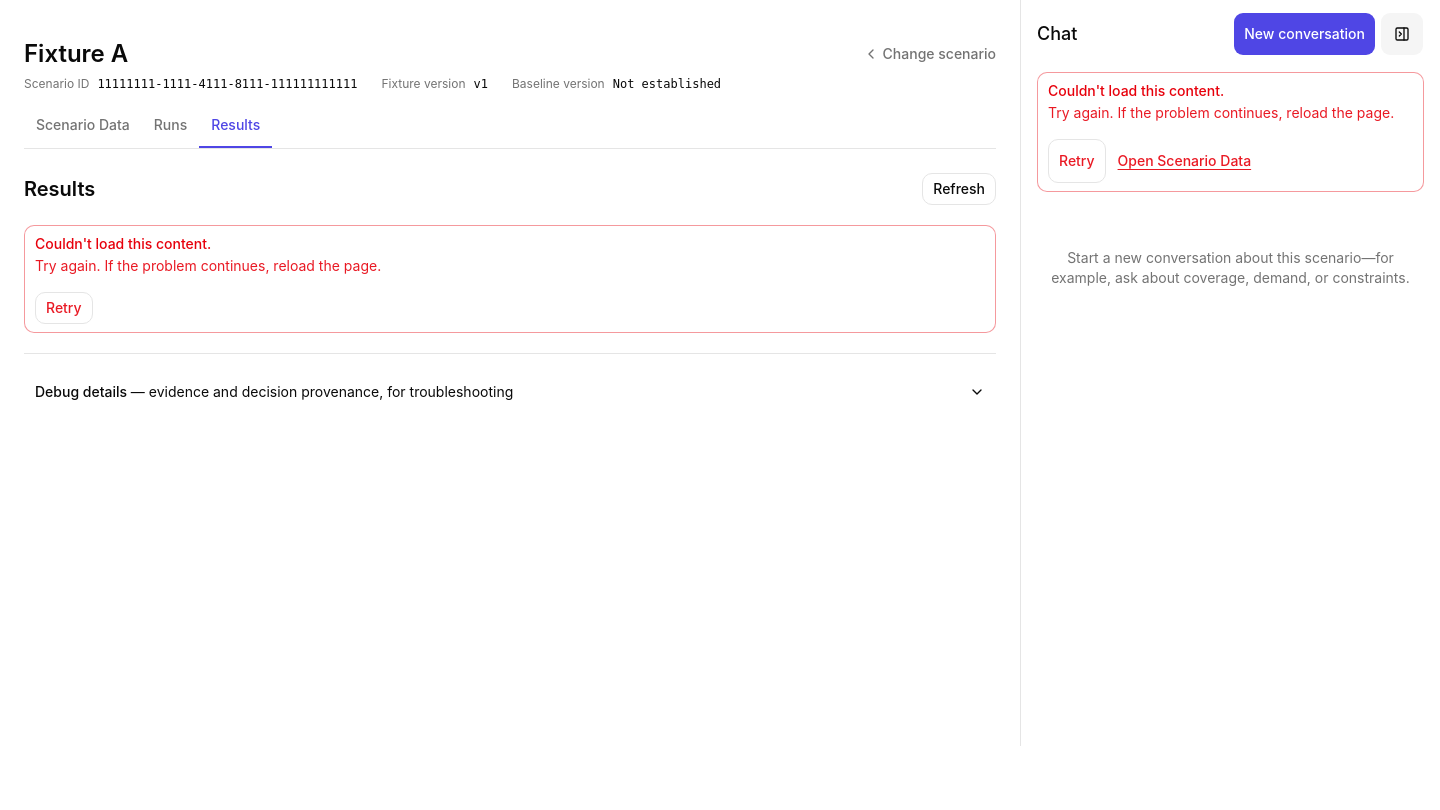
Scenario: keeps the workspace shell and peer tabs available when Results fetch fails
This screenshot has width=1440, height=810.
Expected: the text "Couldn't load this content." below "Runs" is shown, [35,235,211,252]
Expected: the navigation bar named "Scenario workspace" is shown, [24,104,996,149]
Click the button "Debug details" at (510, 392), box [24,370,996,414]
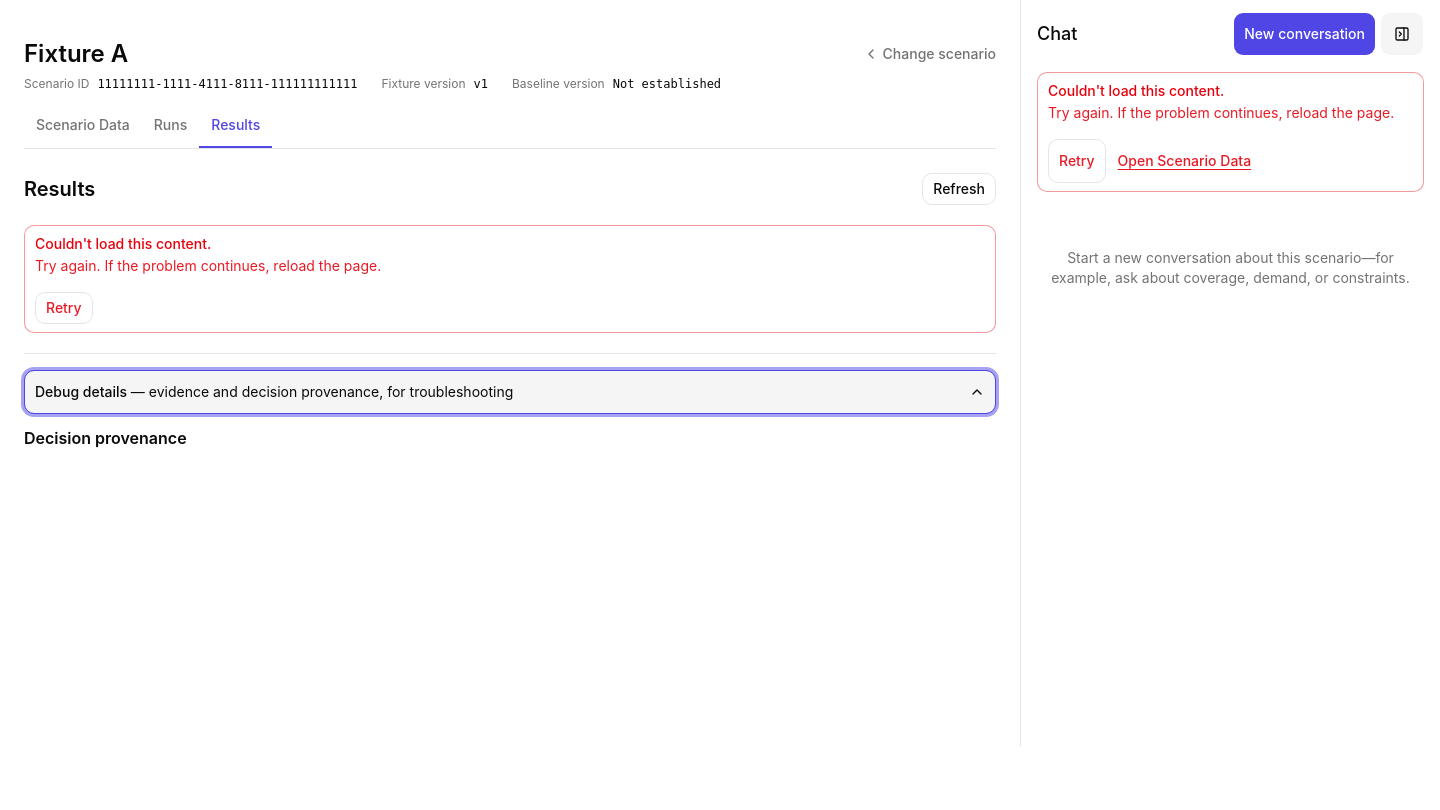
Now the heading "Decision provenance" is shown, box [24,428,187,448]
